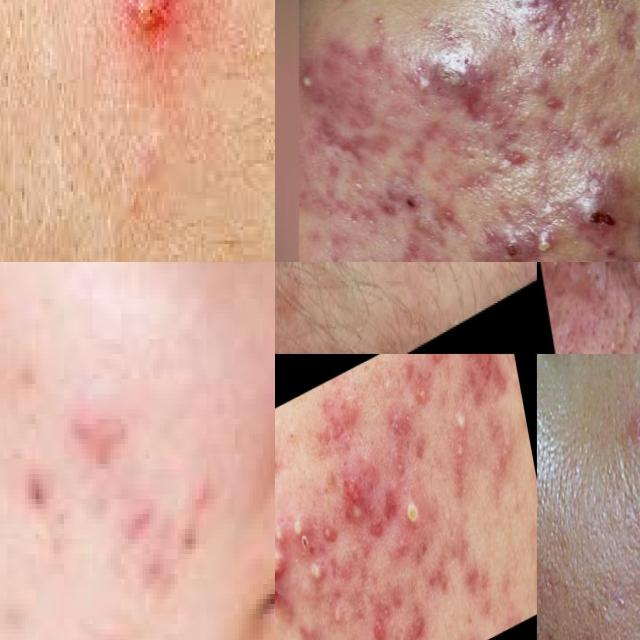acne_scars: (304, 125, 404, 177), (602, 0, 640, 59), (368, 590, 399, 640), (470, 354, 508, 394), (376, 483, 404, 534), (426, 561, 455, 604), (428, 200, 466, 230), (324, 546, 346, 593), (329, 412, 346, 448), (430, 354, 454, 373)
comedone: (580, 262, 604, 308)
papule: (103, 0, 196, 87)
pustule: (288, 58, 348, 110), (399, 485, 429, 539), (306, 548, 328, 595), (286, 504, 307, 549), (451, 404, 472, 439), (451, 433, 471, 466)
sebo-crystan-conglo: (425, 46, 504, 136), (573, 170, 640, 246), (475, 221, 568, 262), (337, 473, 370, 547), (547, 0, 579, 68), (275, 519, 298, 613)
